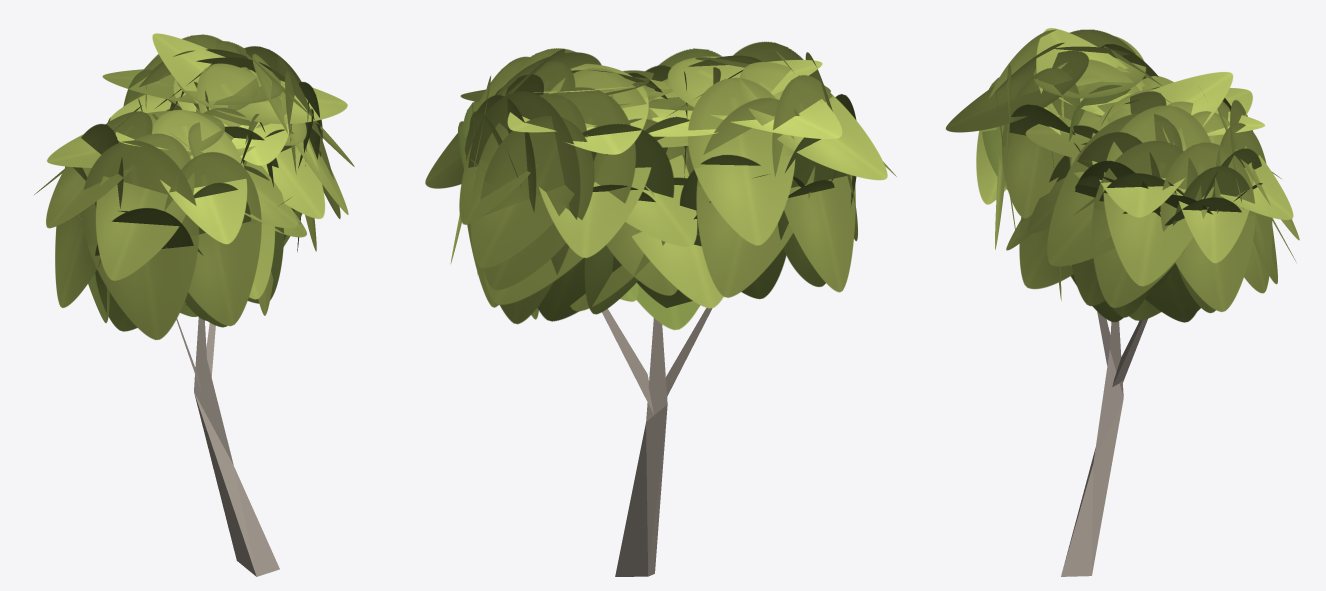
The model's file is tree_lean_olive_lod2.glb.
3 renders of one model, left to right at view 1: azimuth 30°, elevation 25°; view 2: azimuth 150°, elevation 25°; view 3: azimuth 270°, elevation 25°, orthographic. The views are drawn at different scales.
Parts seen in each view (by area): view 1: foliage, trunk; view 2: foliage, trunk; view 3: foliage, trunk.
Boxes of the visible parts, x1,y1,x2,y2 form: foliage: [34, 33, 354, 339]; trunk: [176, 317, 279, 576]; foliage: [425, 41, 896, 330]; trunk: [602, 308, 712, 576]; foliage: [945, 28, 1299, 322]; trunk: [1061, 311, 1147, 576].
Size of the model in its own units: 4.66 by 6.21 by 4.23.
3 materials, 2 textured.
